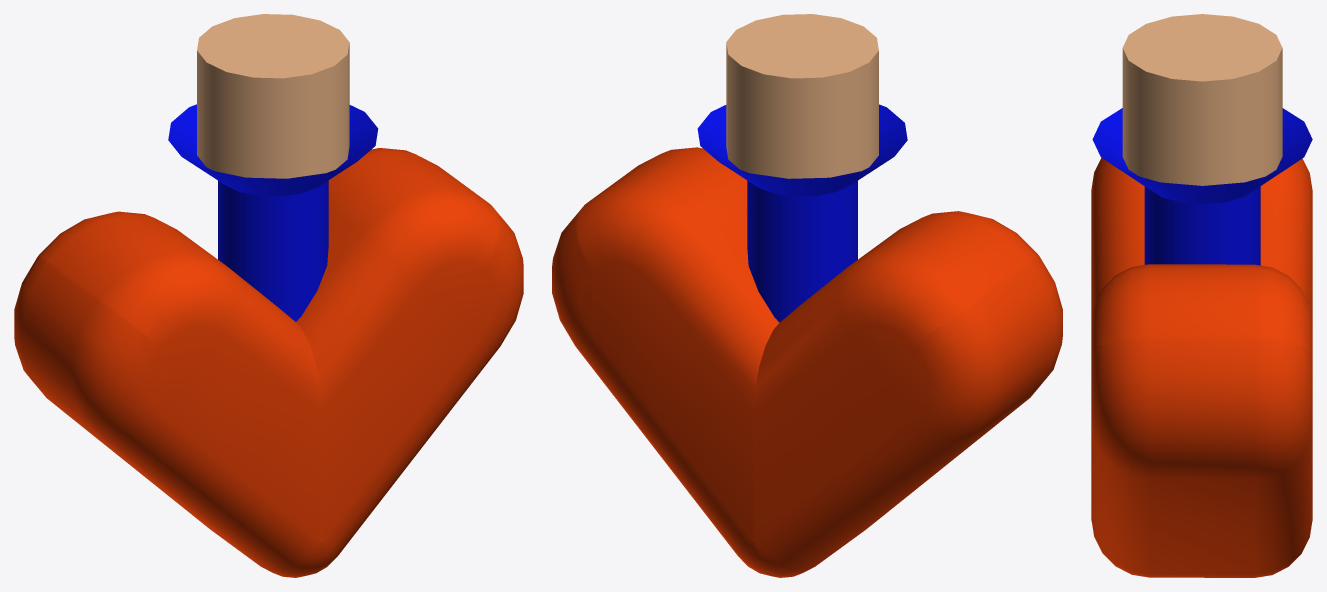
File: heartPotion.fbx
3 views of the same model, side by side, from view 1: azimuth 30°, elevation 25°; view 2: azimuth 150°, elevation 25°; view 3: azimuth 270°, elevation 25° (orthographic). The views are drawn at different scales.
Visible parts, largest first — view 1: Cube.010; view 2: Cube.010; view 3: Cube.010.
Part boxes in pixels (bbox=[...]): Cube.010: bbox=[14, 14, 523, 577]; Cube.010: bbox=[552, 14, 1062, 577]; Cube.010: bbox=[1091, 14, 1312, 577].
Bounding box in the file's own units: 483 × 524 × 200.
